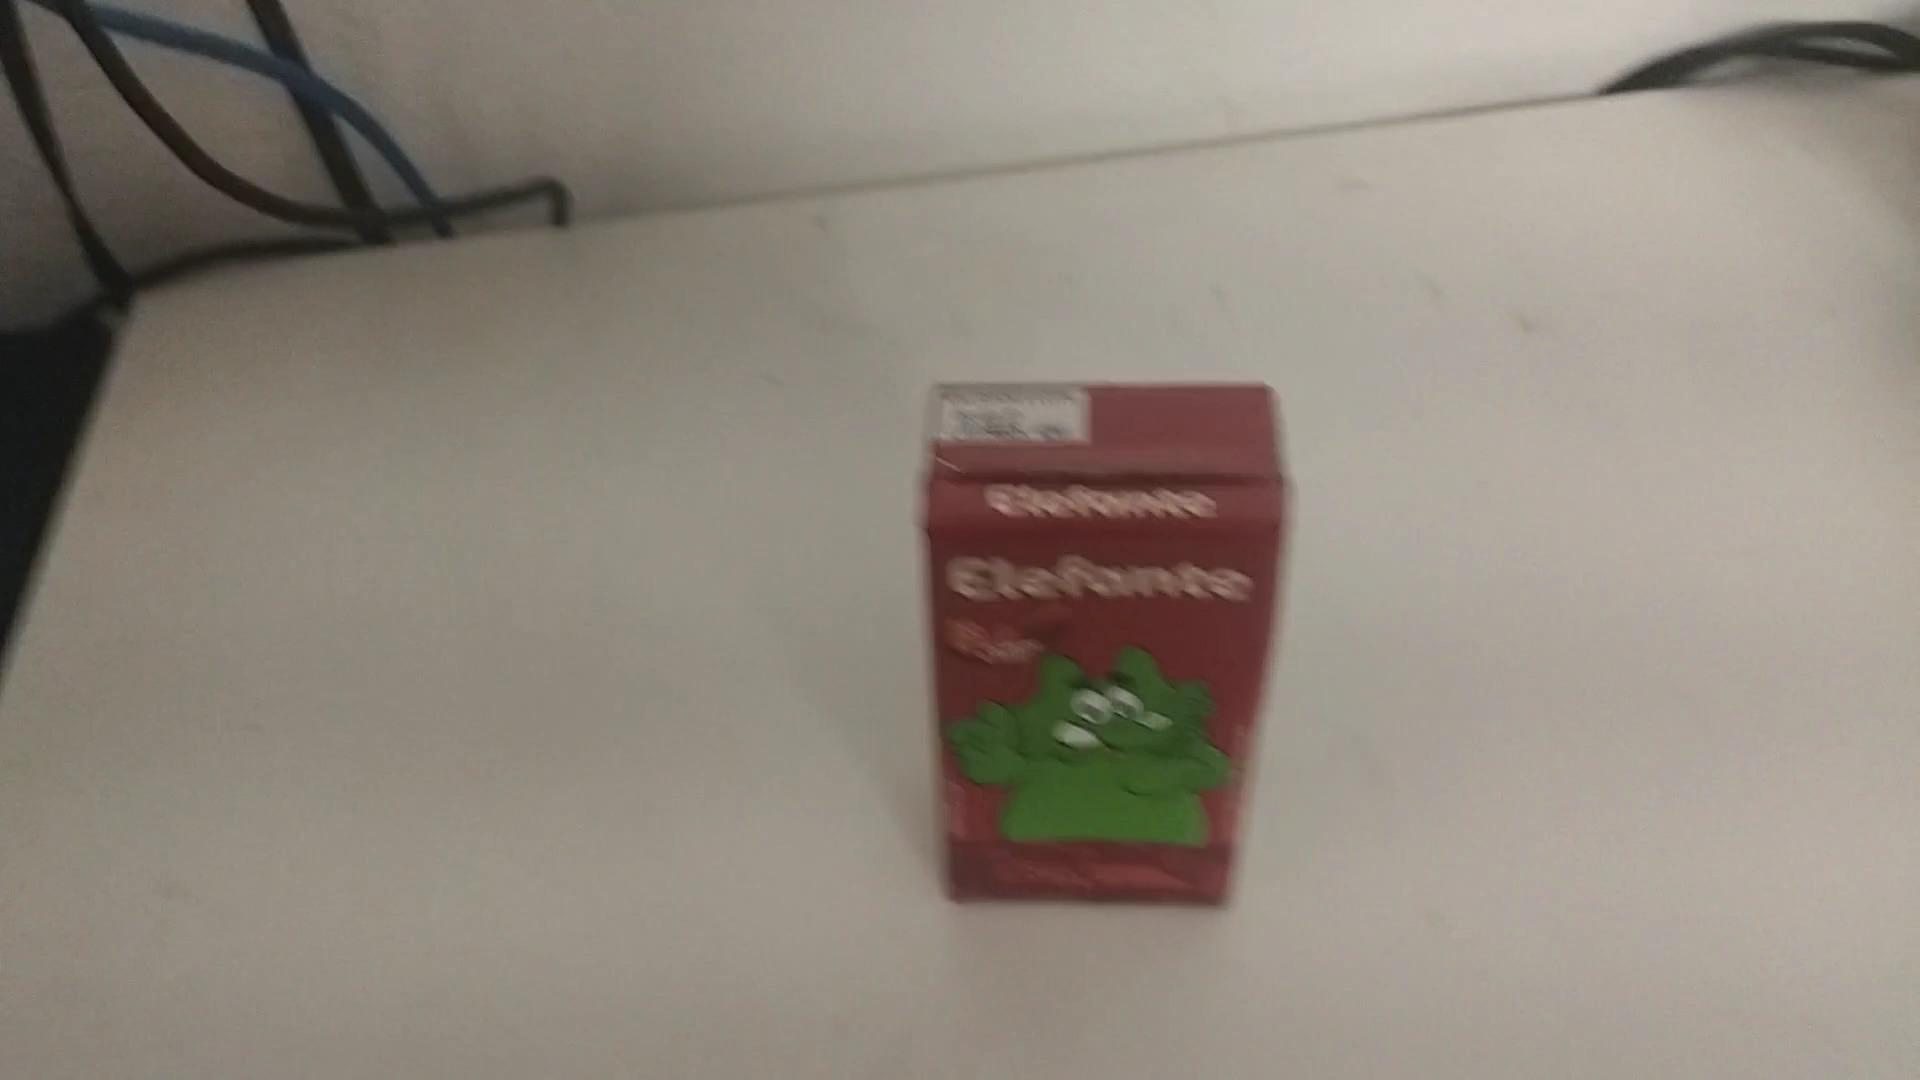tomate: (909, 369, 1296, 909)
